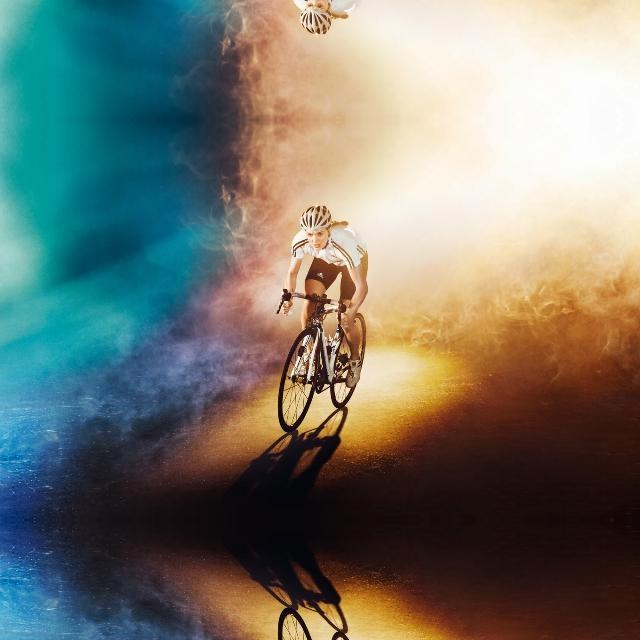obstacle: (251, 272, 399, 434), (251, 605, 399, 640)
